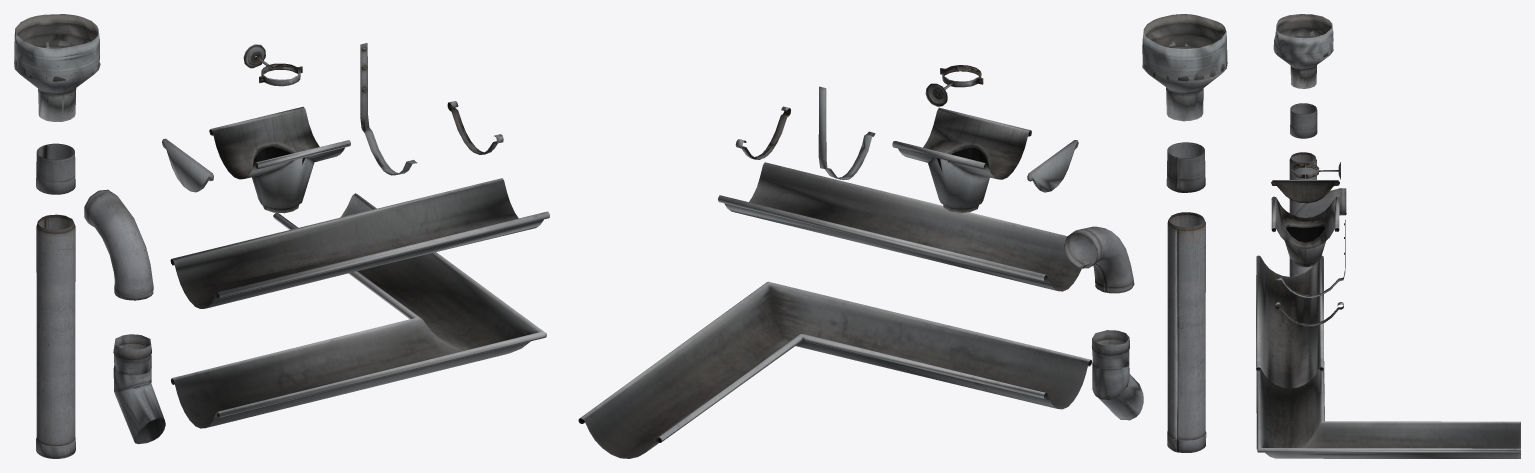
The model's file is modular_metal_gutter.fbx.
3 renders of one model, left to right at view 1: azimuth 30°, elevation 25°; view 2: azimuth 150°, elevation 25°; view 3: azimuth 270°, elevation 25°, orthographic. The views are drawn at different scales.
Parts seen in each view (by area): view 1: modular_metal_gutter_LOD0; view 2: modular_metal_gutter_LOD0; view 3: modular_metal_gutter_LOD0.
Part boxes in pixels (x1=…): modular_metal_gutter_LOD0: x1=14, y1=14, x2=549, y2=458; modular_metal_gutter_LOD0: x1=578, y1=14, x2=1227, y2=458; modular_metal_gutter_LOD0: x1=1256, y1=14, x2=1520, y2=458.
Size of what is drawn, in the model's own units: 227 by 184 by 151.
1 material, 1 textured.
